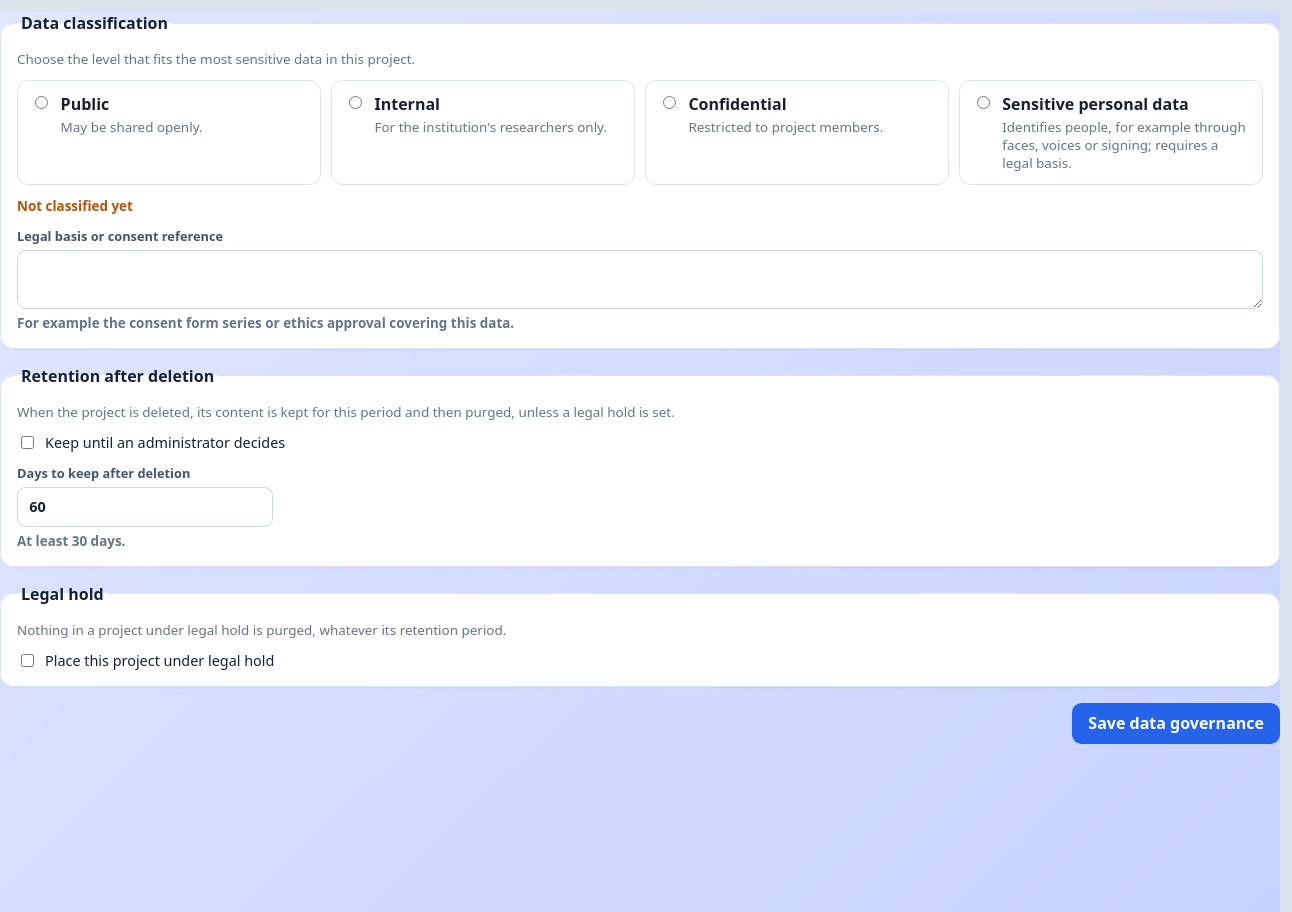
Scenario: ConfigureDataGovernance › refuses a retention period shorter than thirty days
Step 1. Replace the text in the number field labelled "Days to keep after deletion At least 30 days." with "10" → (145, 507), box x1=17 y1=487 x2=273 y2=527
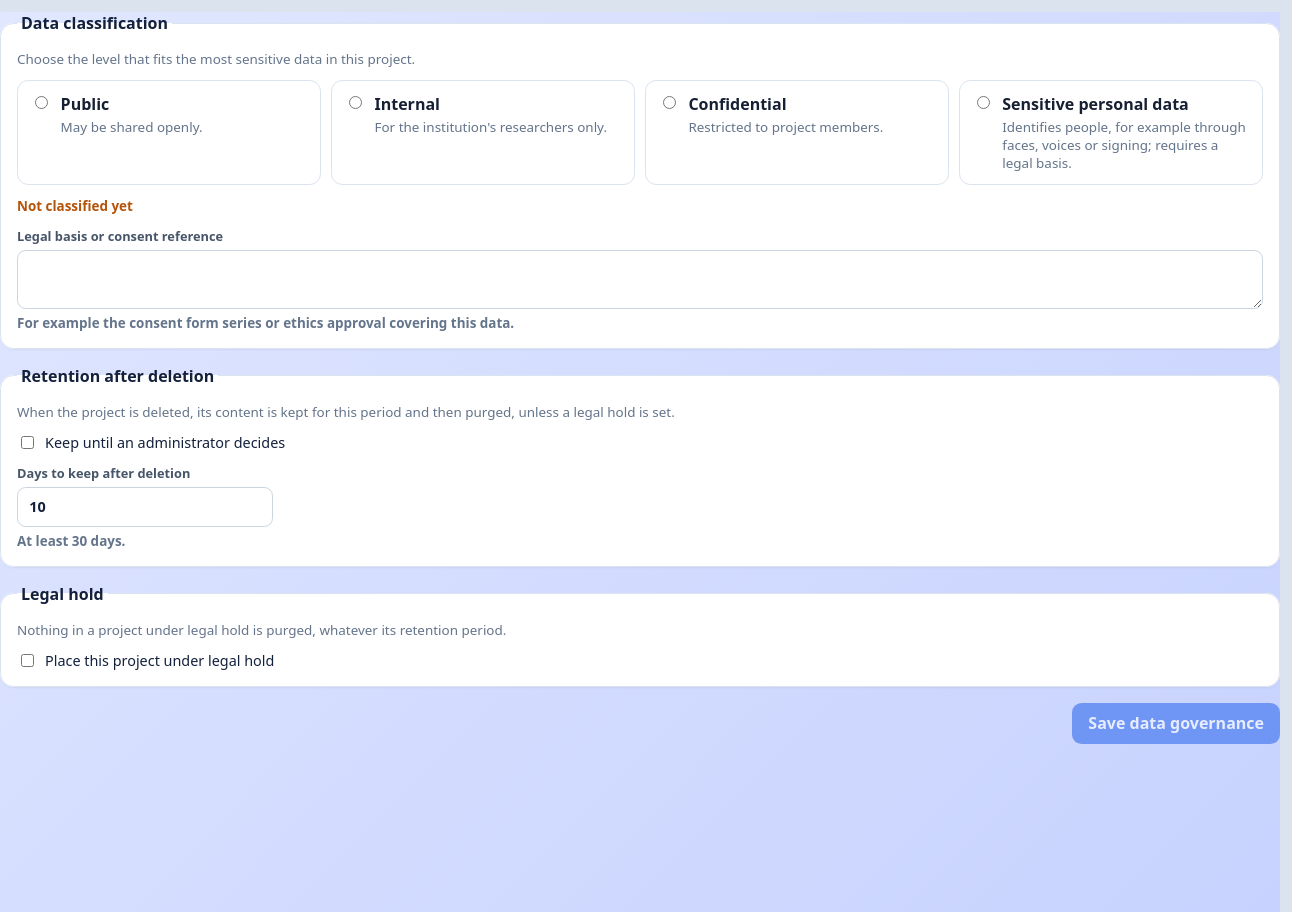
Now the submit button is disabled, box x1=1072 y1=703 x2=1280 y2=744
